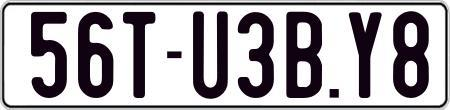3: (236, 10, 272, 99)
5: (29, 11, 69, 102)
6: (76, 11, 112, 101)
8: (390, 11, 431, 98)
B: (285, 10, 327, 100)
T: (120, 12, 152, 98)
U: (193, 10, 230, 98)
Y: (347, 12, 383, 100)
